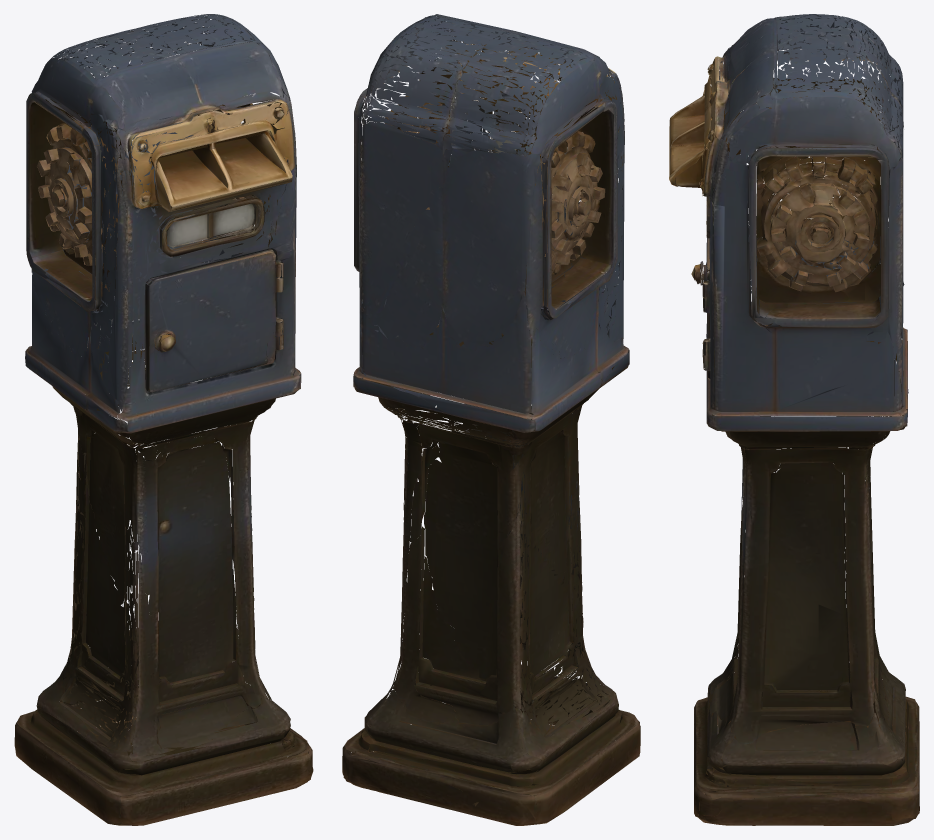
Rendered from ch03_night_ticket_reader.glb.
The picture shows the model from 3 angles, left to right: view 1: azimuth 30°, elevation 25°; view 2: azimuth 150°, elevation 25°; view 3: azimuth 270°, elevation 25°; orthographic projection.
Visible parts, largest first — view 1: material; view 2: material; view 3: material.
Part boxes in pixels (<box>): material: <box>14,14,313,825</box>; material: <box>342,14,640,825</box>; material: <box>669,14,919,825</box>.
Size of the model in its own units: 0.3317 by 1.12 by 0.3496.
Materials: 1 (1 with a texture image).
